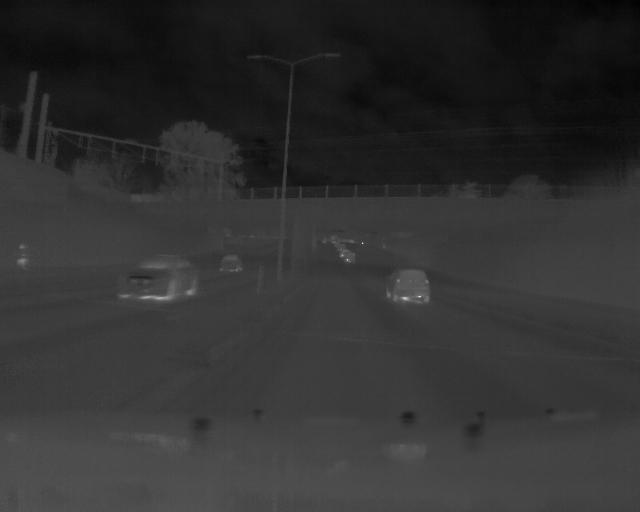car: (116, 253, 201, 307), (385, 269, 432, 308), (218, 253, 244, 274)
person: (15, 241, 30, 274)
